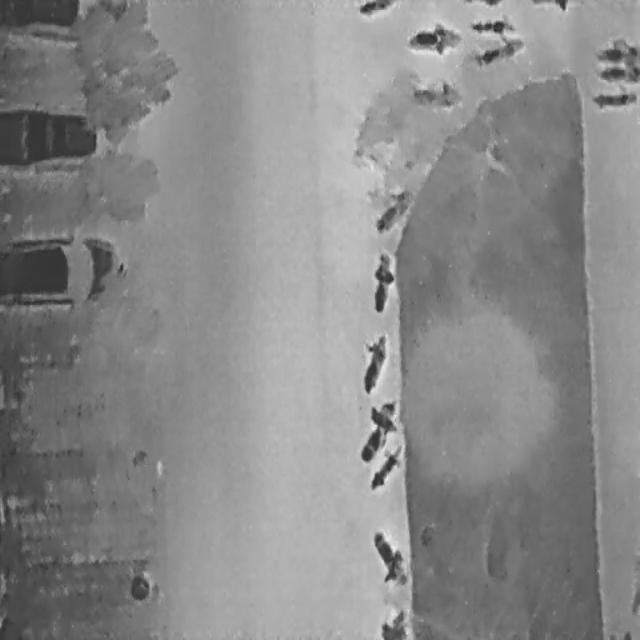Bicycle: (343, 385, 408, 470), (362, 519, 414, 596), (346, 320, 395, 399), (366, 176, 419, 239), (362, 433, 410, 498), (365, 246, 397, 315), (471, 32, 525, 68), (407, 18, 464, 52), (411, 76, 456, 106), (469, 14, 515, 38), (594, 61, 638, 84), (378, 608, 411, 638), (594, 39, 637, 61), (591, 89, 637, 108), (356, 0, 400, 16), (530, 0, 571, 15)
Car: (0, 232, 118, 308), (0, 106, 96, 168), (0, 0, 91, 50)
